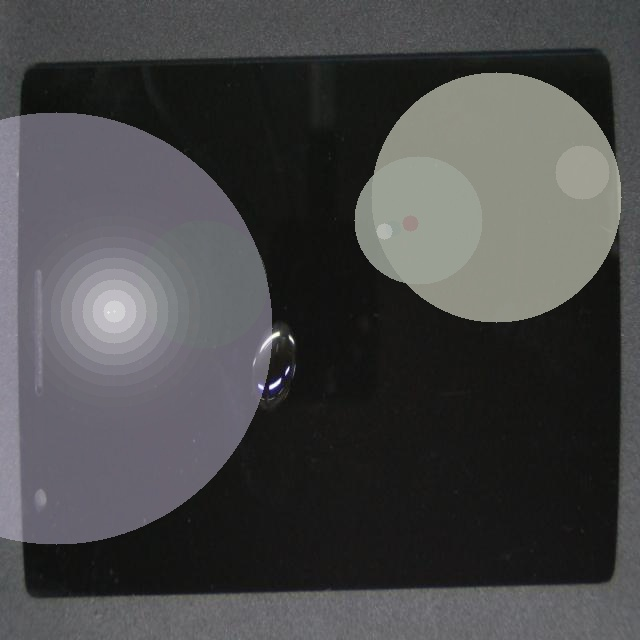oil: (160, 135, 404, 509)
